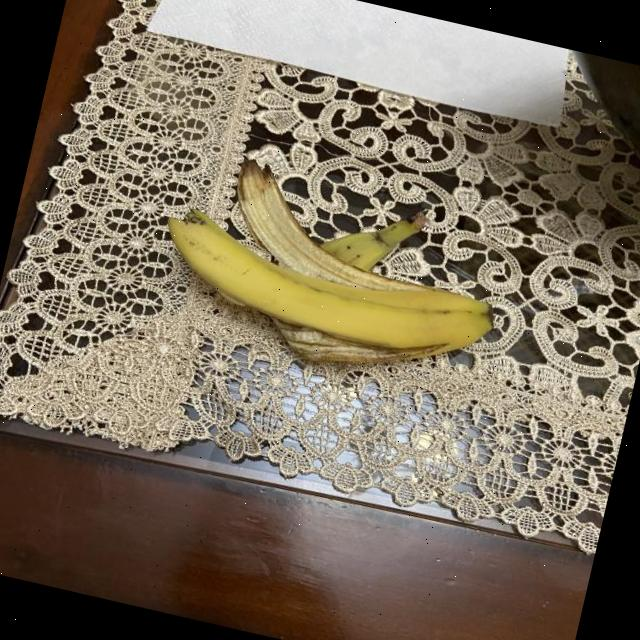banana-peel: (143, 141, 518, 398)
